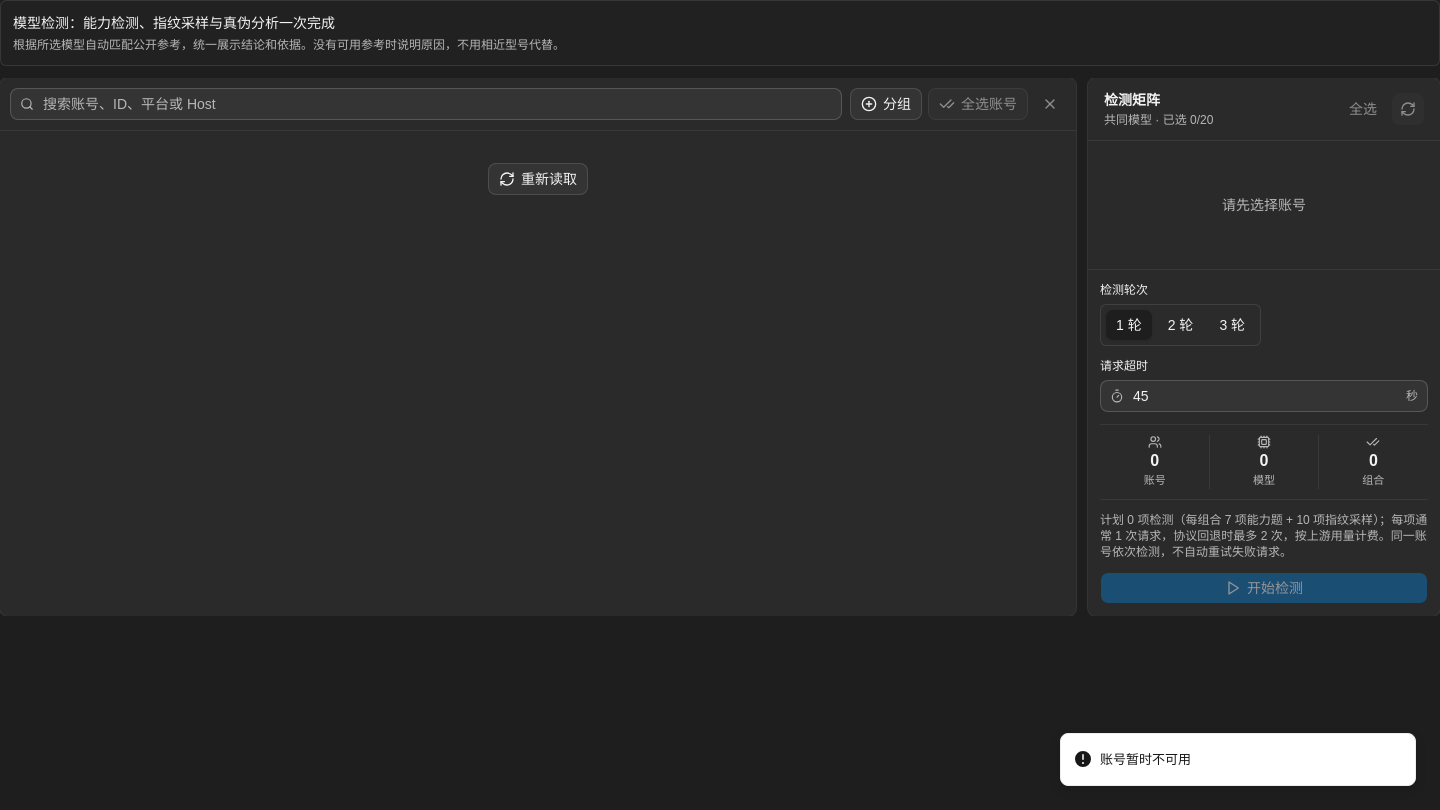
Test: 账号首次读取失败时提供重新读取入口并在恢复后展示账号
What coordinates should you click on to do the following:
click the button "重新读取"
I would click on:
 (538, 179)
Its box is [488, 163, 588, 195].
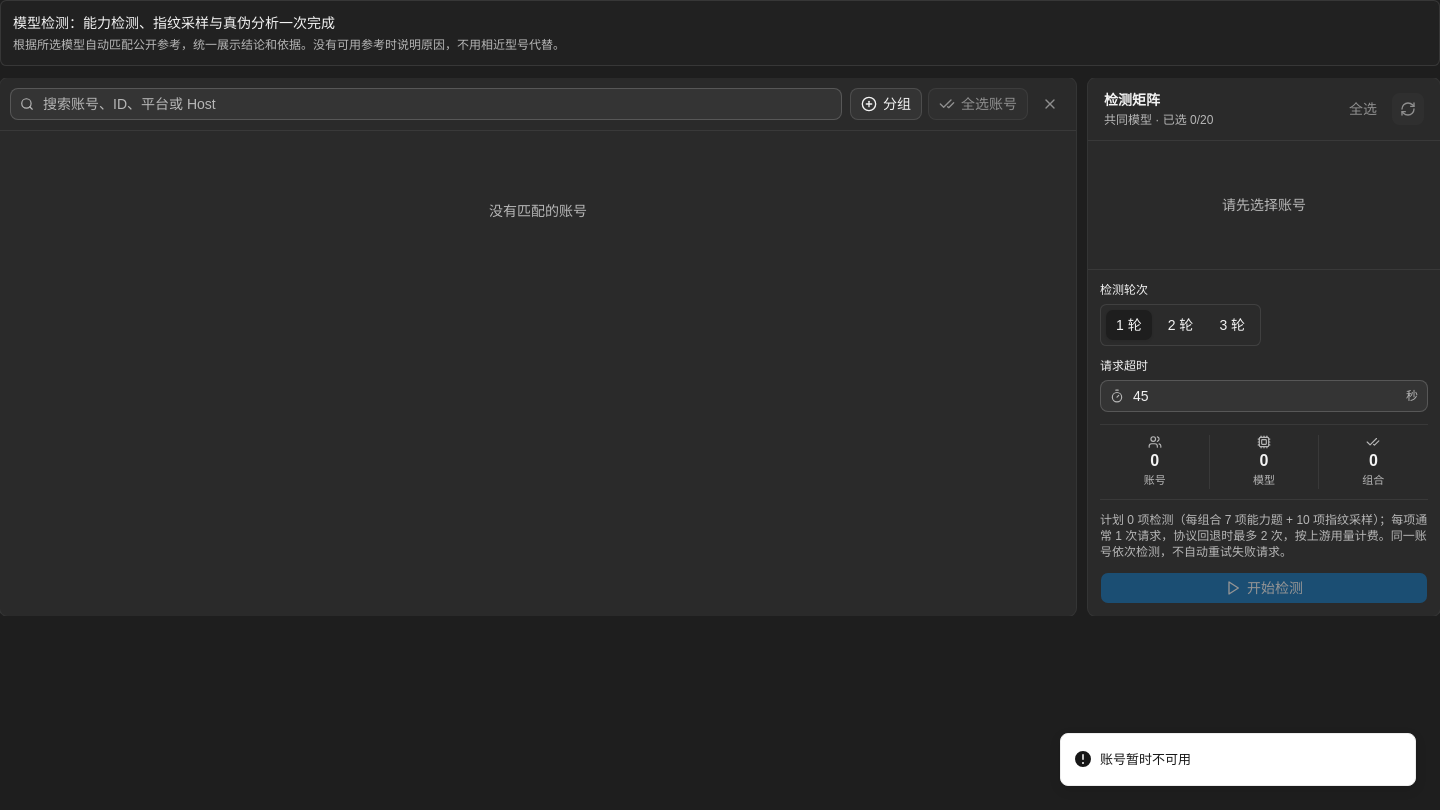
Result: the text "没有匹配的账号" is shown at [489, 203, 587, 219]
Result: the button "重新读取" is gone
